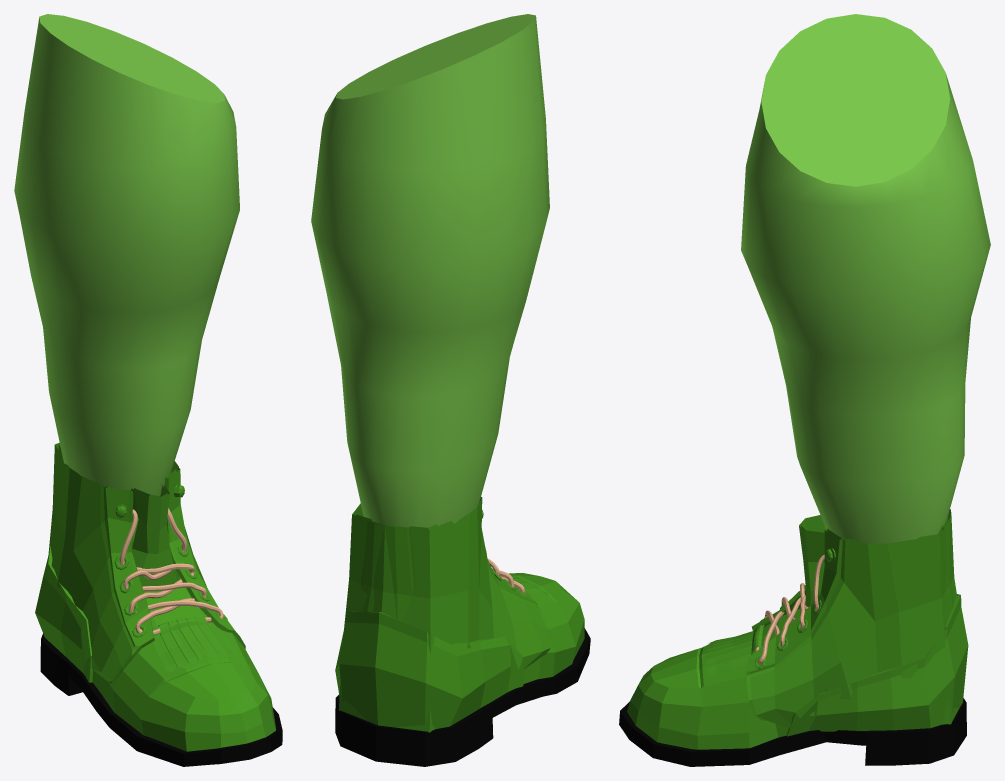
File: FrijolitoPiernaDer.obj
3 views of the same model, side by side, from view 1: azimuth 30°, elevation 25°; view 2: azimuth 150°, elevation 25°; view 3: azimuth 270°, elevation 25° (orthographic). The views are drawn at different scales.
Visible parts, largest first — view 1: polySurface114; view 2: polySurface114; view 3: polySurface114.
Part boxes in pixels (bbox=[...]): polySurface114: bbox=[14, 14, 282, 766]; polySurface114: bbox=[311, 14, 590, 766]; polySurface114: bbox=[619, 14, 990, 766].
Size of the model in its own units: 0.7281 by 2.47 by 1.22.
